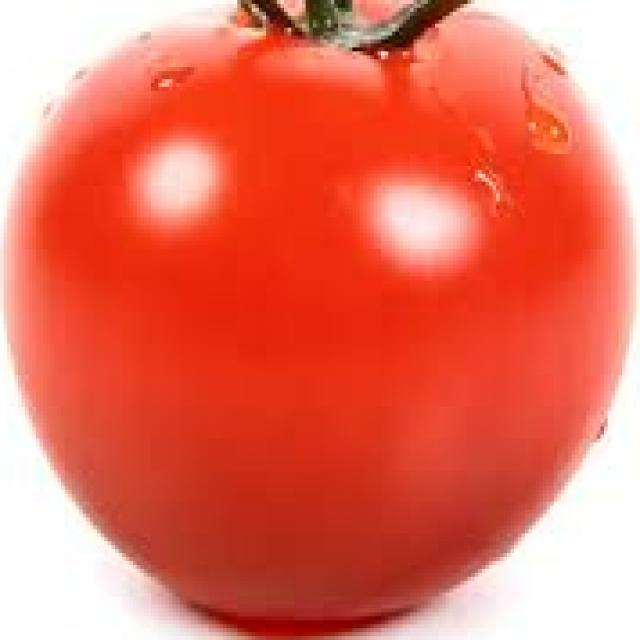Healthy: (12, 20, 639, 640)
